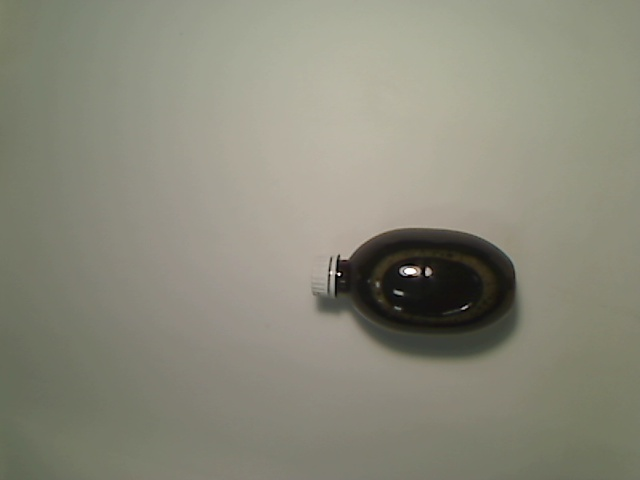plast_bottle: (308, 225, 519, 336)
